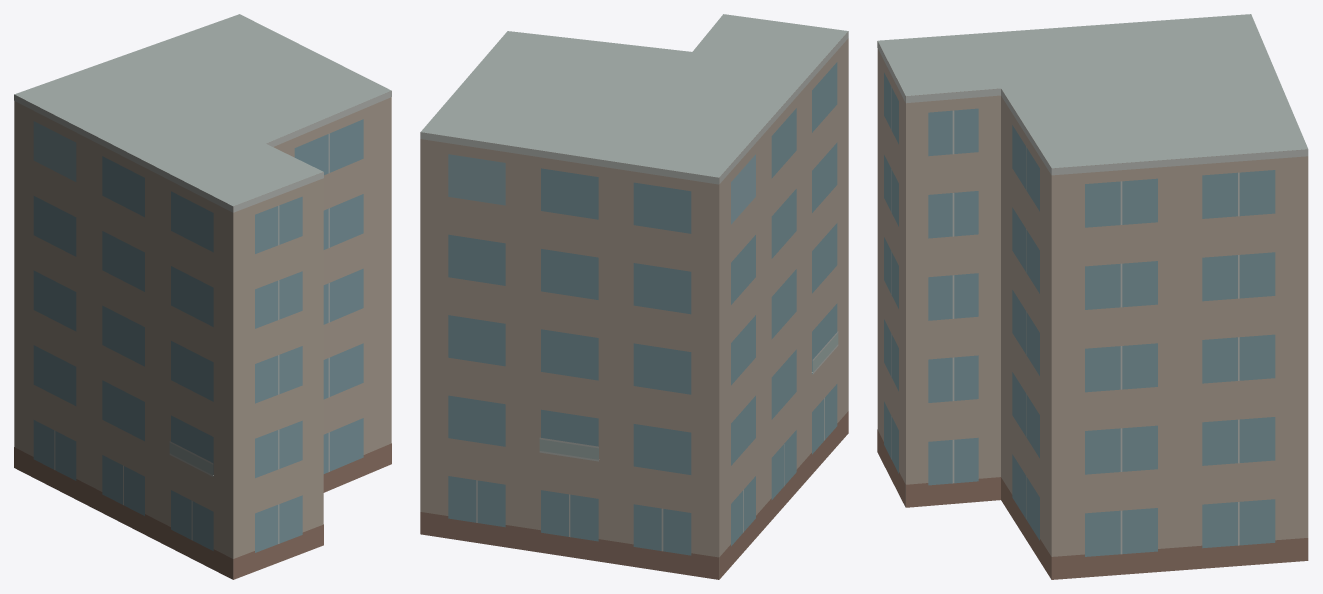
Rendered from survey-upis-32947243.glb.
3 views of the same model, side by side, from view 1: azimuth 30°, elevation 25°; view 2: azimuth 150°, elevation 25°; view 3: azimuth 270°, elevation 25° (orthographic). The views are drawn at different scales.
Visible parts, largest first — view 1: survey-upis-32947243.tmp; view 2: survey-upis-32947243.tmp; view 3: survey-upis-32947243.tmp.
Boxes of the visible parts, x1,y1,x2,y2 form: survey-upis-32947243.tmp: (14,14,391,579); survey-upis-32947243.tmp: (420,14,848,579); survey-upis-32947243.tmp: (877,14,1308,579).
Bounding box in the file's own units: 11.47 × 14.25 × 13.53.
